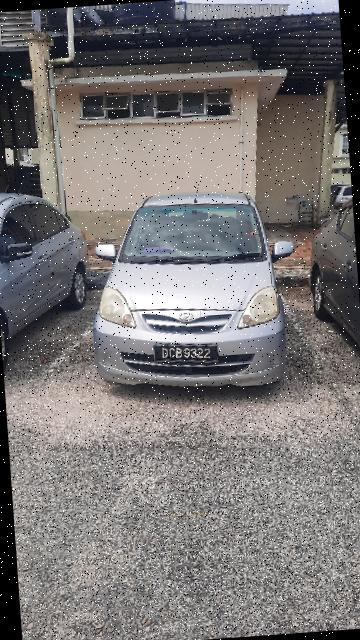License_Plate: (156, 339, 223, 371)
car: (84, 175, 304, 414)
